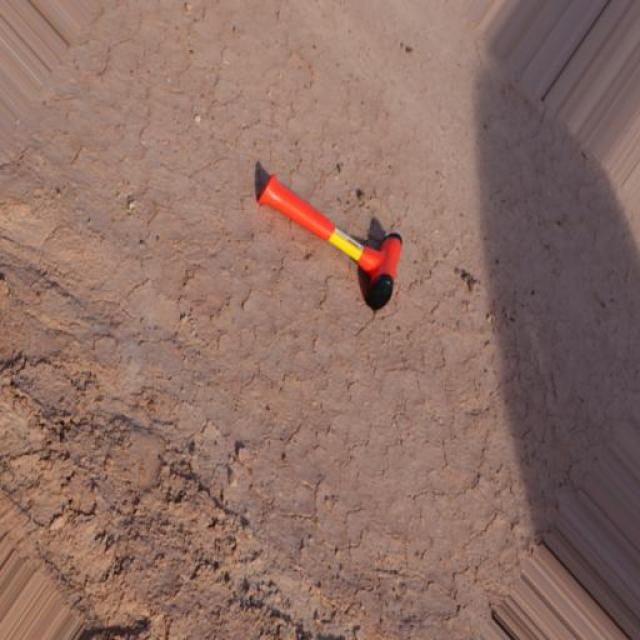mallet: (252, 159, 402, 311)
